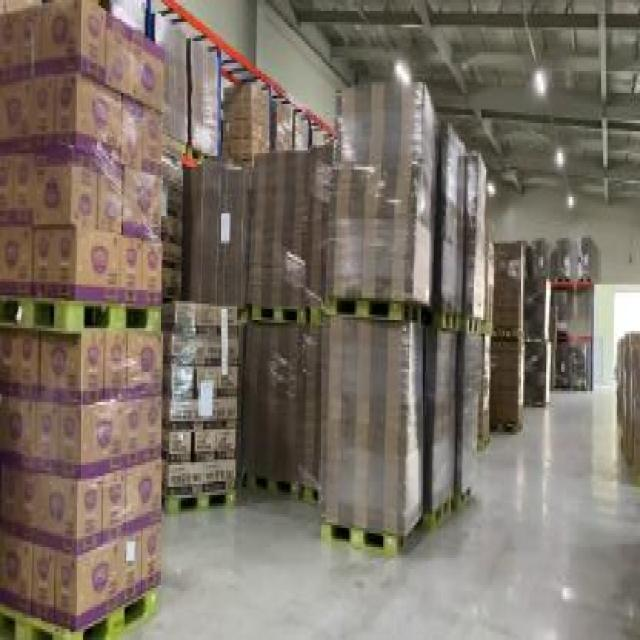box: (2, 0, 163, 635), (326, 85, 483, 563), (191, 145, 331, 520), (163, 282, 237, 508), (472, 222, 530, 440), (140, 5, 220, 162), (227, 77, 316, 172), (609, 331, 637, 487), (523, 270, 551, 416), (525, 230, 592, 279), (551, 331, 592, 391)
